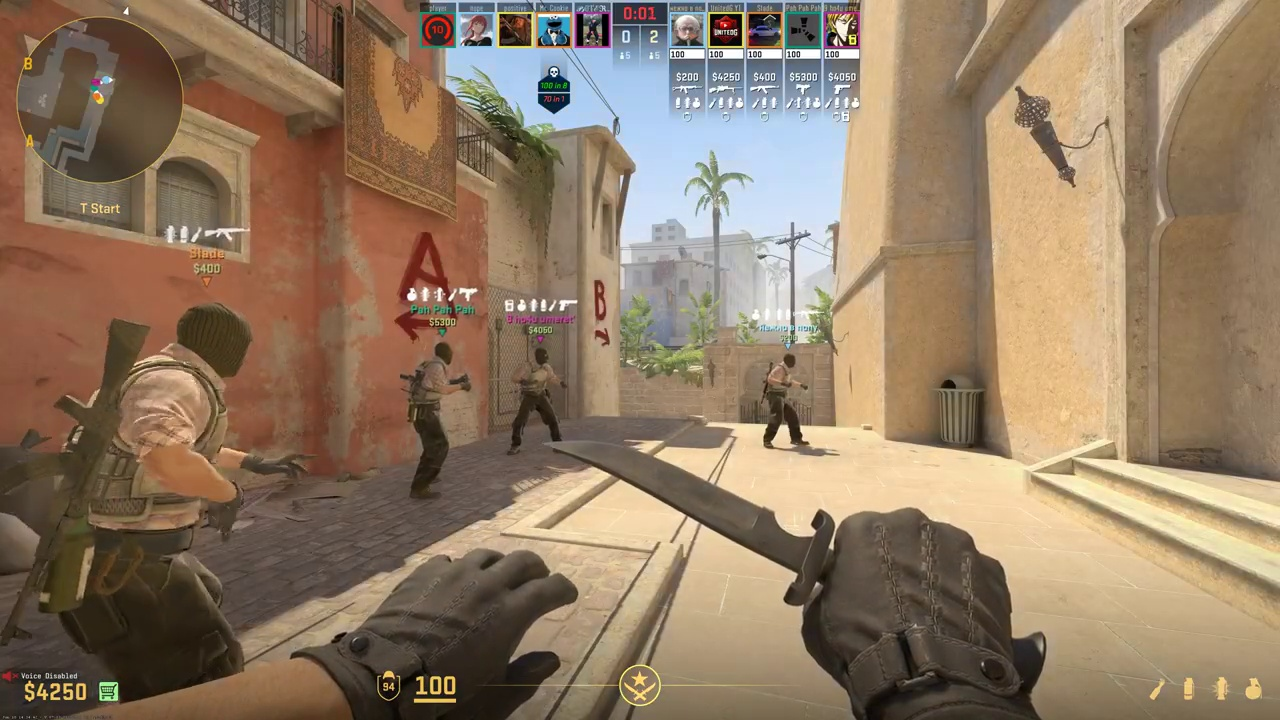Terrorist: (77, 304, 274, 696), (407, 343, 453, 501), (509, 349, 562, 454), (763, 354, 806, 449), (81, 481, 133, 493)
